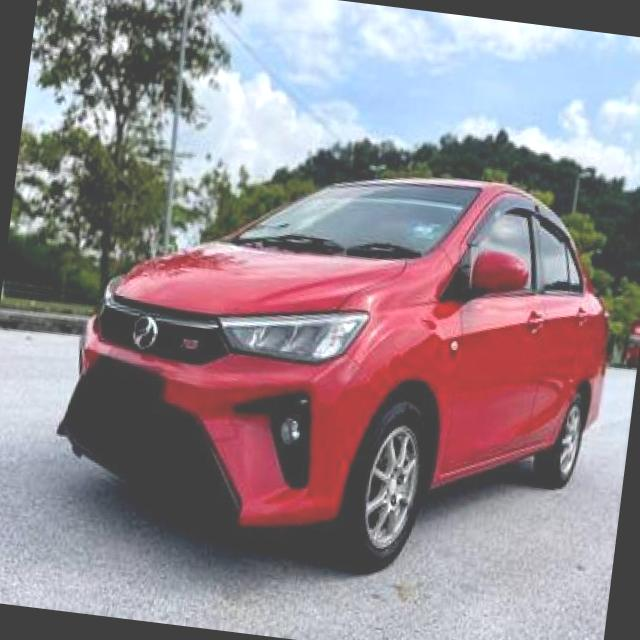PeroduaBezza: (44, 130, 628, 598)
